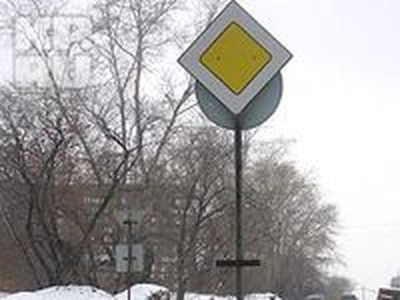priority_road: (178, 2, 290, 111)
